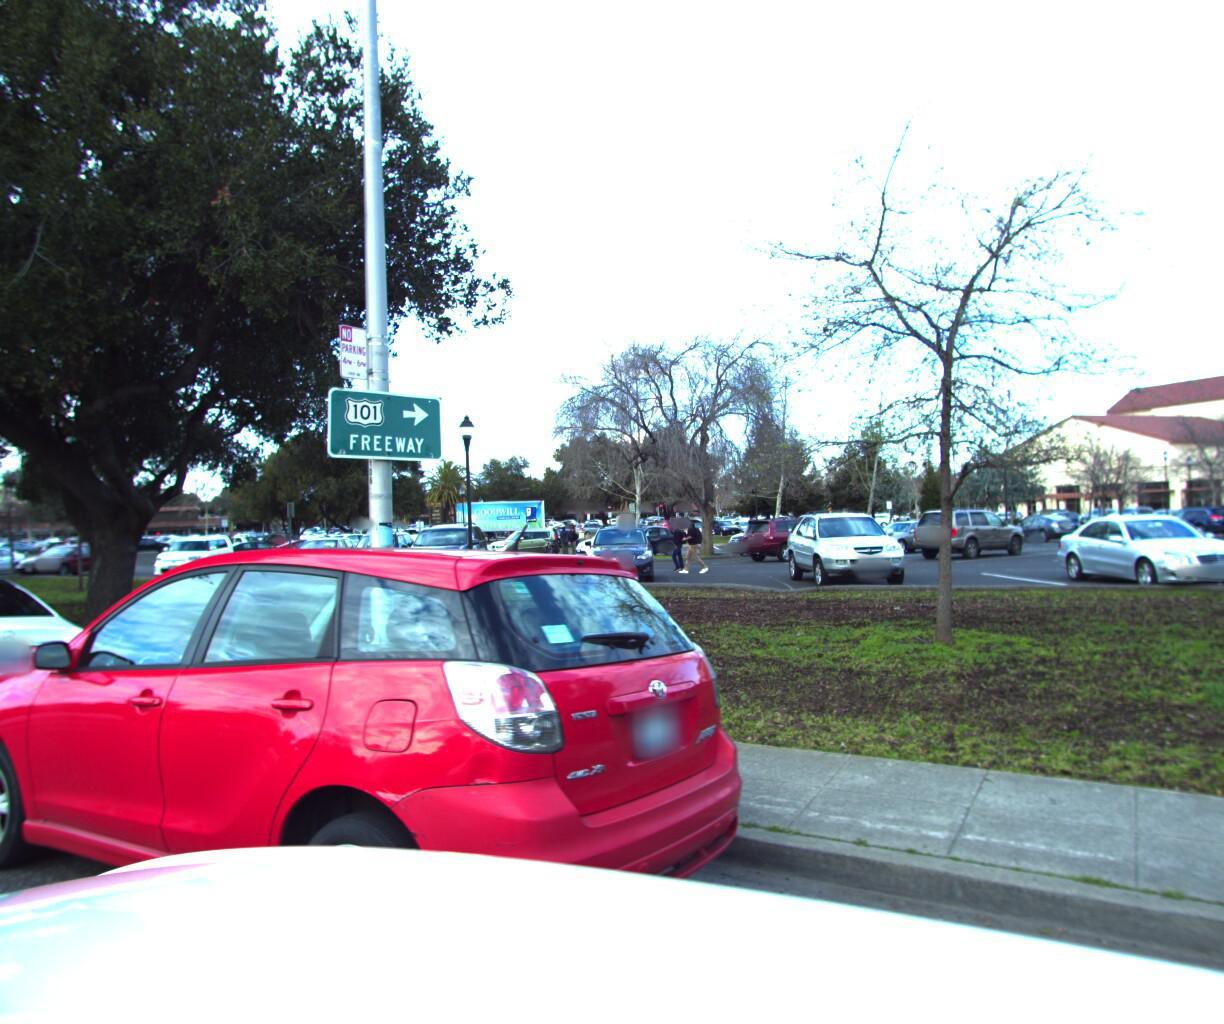car: (0, 535, 797, 1024), (0, 560, 131, 835)
